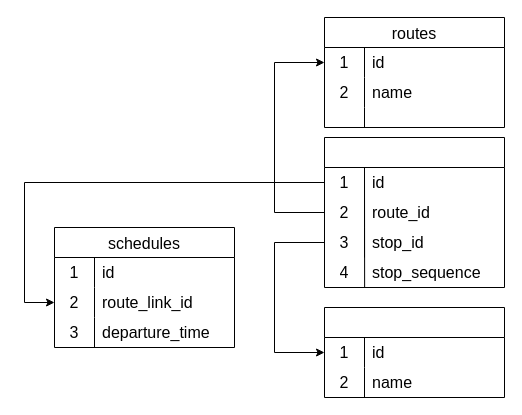
This 522x415 diagram has some shape labels left out. The box of each missing label's shape, as (x1, y1, x2, y2) in pixels:
route_link: (324, 136, 504, 288)
stops: (324, 306, 504, 398)
